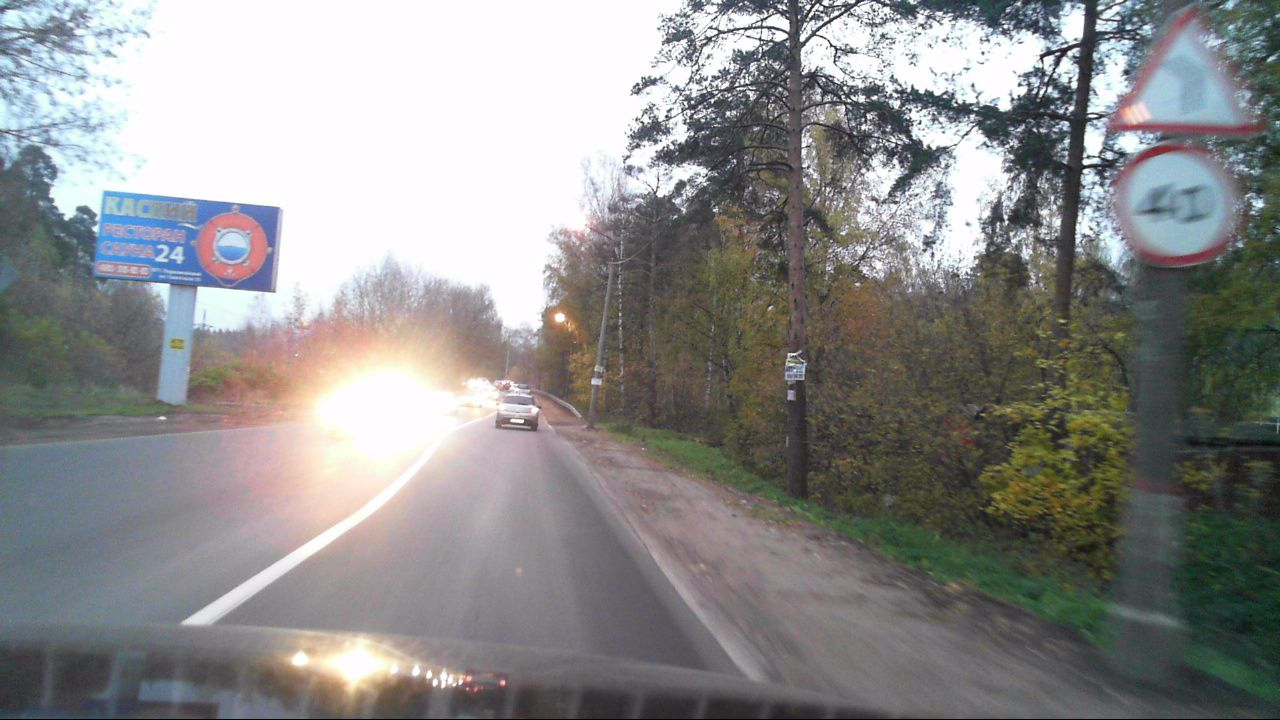speed_warning_40: (1112, 145, 1241, 270)
